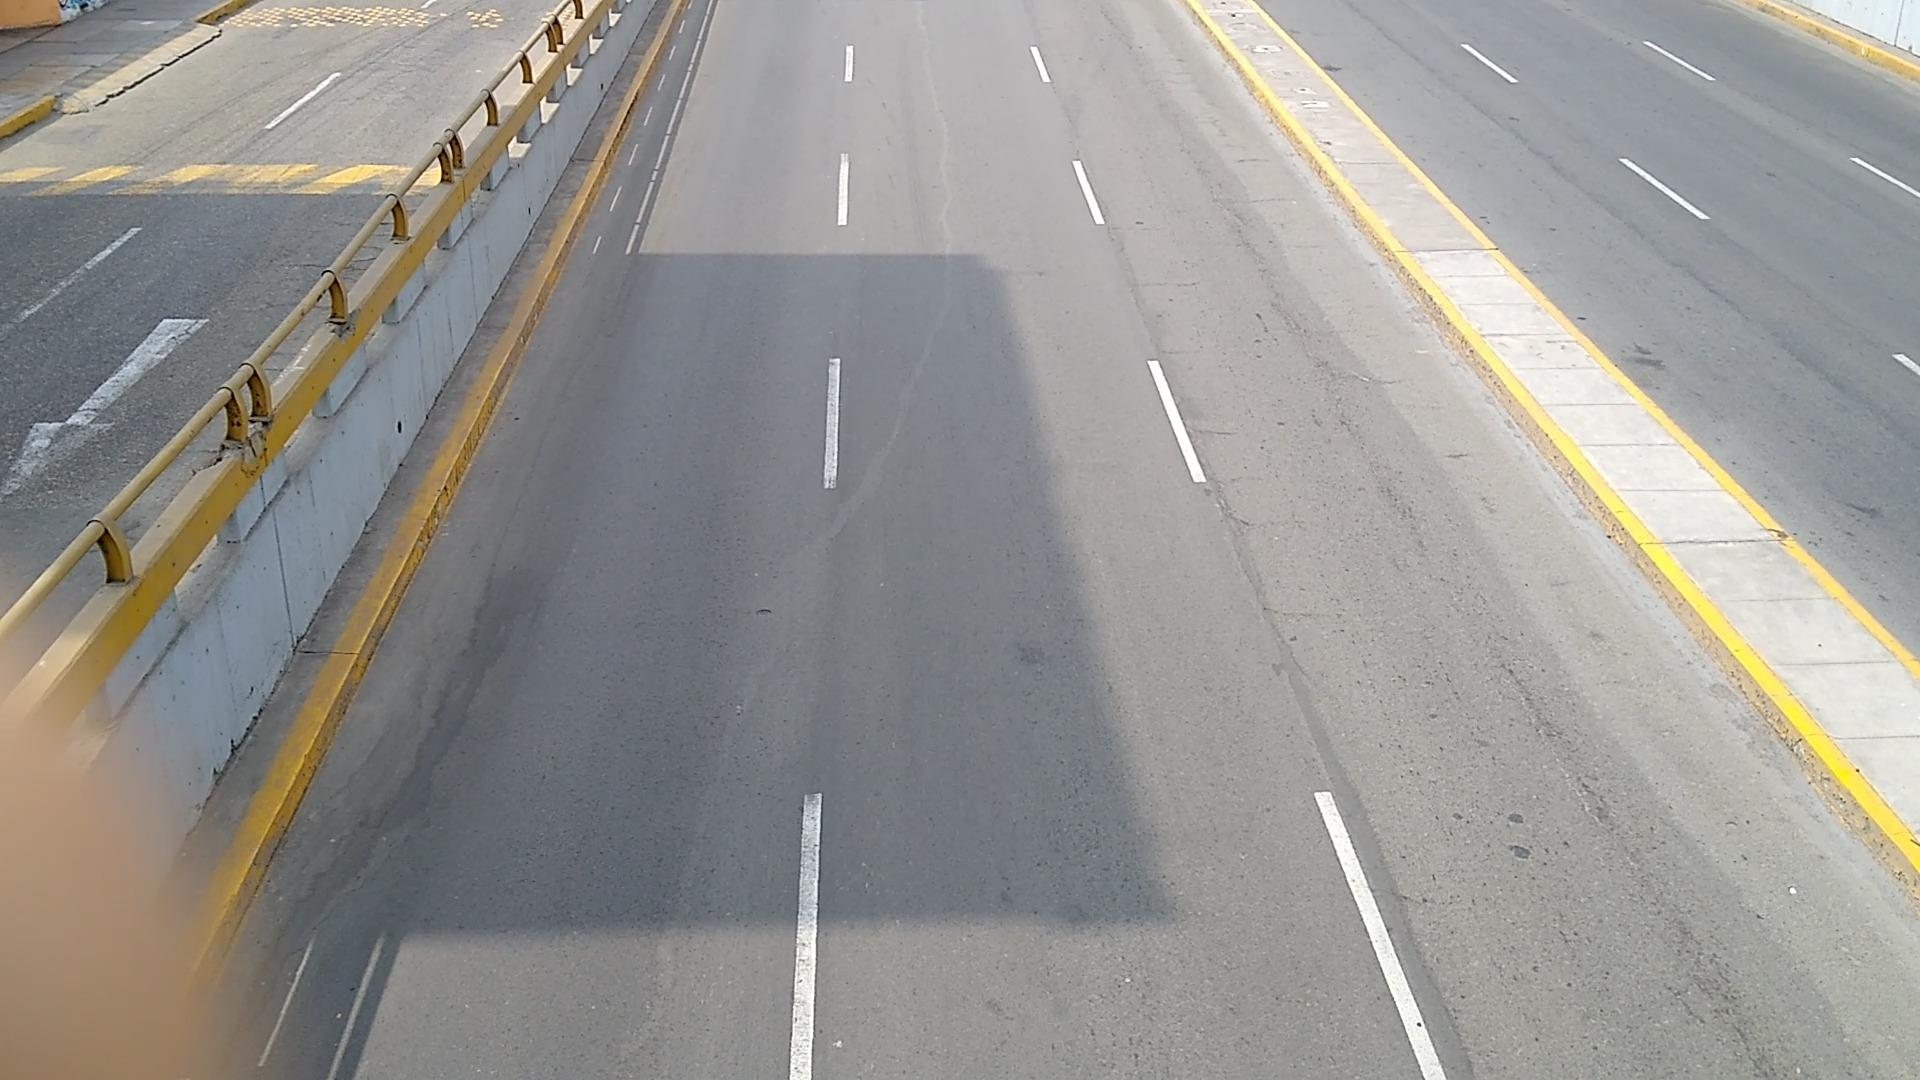car: (228, 8, 431, 26)
